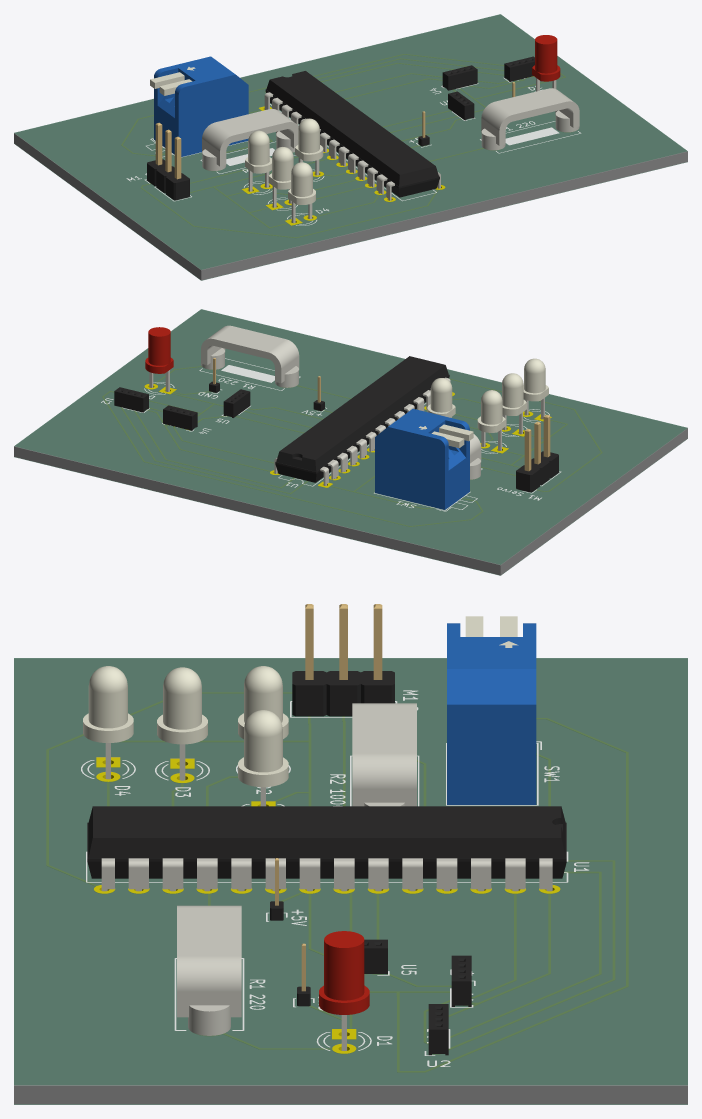
File: pcb.glb
The picture shows the model from 3 angles, top to bottom: view 1: azimuth 30°, elevation 25°; view 2: azimuth 150°, elevation 25°; view 3: azimuth 270°, elevation 25°; orthographic projection. The views are drawn at different scales.
Visible parts, largest first — view 1: =>[0:1:1:14], =>[0:1:1:12], U1, SW1, R1 220, R2 1000, M1 Servo, =>[0:1:1:11], =>[0:1:1:10], D1, D4, D2 (+6 smaller); view 2: =>[0:1:1:14], =>[0:1:1:12], U1, SW1, R1 220, M1 Servo, =>[0:1:1:11], =>[0:1:1:10], D1, D2, D4, D3 (+6 smaller); view 3: =>[0:1:1:12], =>[0:1:1:14], U1, SW1, R1 220, =>[0:1:1:10], R2 1000, M1 Servo, D1, =>[0:1:1:11], D3, D4 (+5 smaller).
Boxes of the visible parts, x1,y1,x2,y2 form: =>[0:1:1:14]: [14, 15, 687, 280]; =>[0:1:1:12]: [14, 14, 687, 269]; U1: [264, 71, 440, 200]; SW1: [150, 56, 248, 156]; R1 220: [481, 88, 579, 150]; R2 1000: [202, 108, 298, 170]; M1 Servo: [147, 122, 189, 200]; =>[0:1:1:11]: [126, 77, 581, 225]; =>[0:1:1:10]: [122, 54, 564, 237]; D1: [532, 35, 560, 91]; D4: [288, 162, 315, 223]; D2: [245, 130, 271, 191]; =>[0:1:1:14]: [14, 310, 687, 575]; =>[0:1:1:12]: [14, 309, 687, 564]; U1: [274, 356, 450, 485]; SW1: [375, 408, 473, 509]; R1 220: [201, 325, 299, 387]; M1 Servo: [516, 414, 558, 492]; =>[0:1:1:11]: [101, 358, 561, 511]; =>[0:1:1:10]: [103, 366, 601, 526]; D1: [145, 327, 173, 391]; D2: [477, 390, 505, 450]; D4: [523, 358, 548, 419]; D3: [502, 373, 526, 434]; =>[0:1:1:12]: [14, 658, 687, 1085]; =>[0:1:1:14]: [14, 659, 687, 1104]; U1: [87, 806, 566, 891]; SW1: [447, 616, 536, 804]; R1 220: [177, 905, 241, 1035]; =>[0:1:1:10]: [47, 701, 627, 1071]; R2 1000: [352, 703, 416, 806]; M1 Servo: [292, 604, 394, 716]; D1: [319, 931, 369, 1051]; =>[0:1:1:11]: [81, 690, 589, 1066]; D3: [157, 667, 207, 780]; D4: [83, 666, 133, 779].
Size of the model in its own units: 0.075 by 0.0135 by 0.05.
